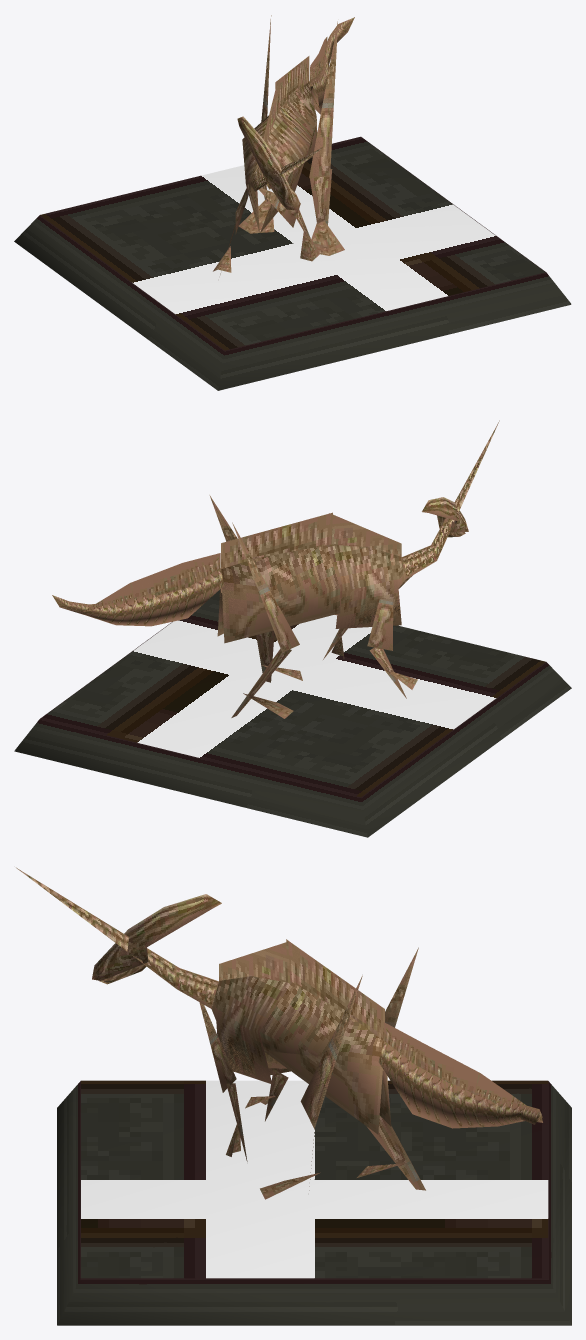
Rendered from int_din_para_m.dae.
The picture shows the model from 3 angles, top to bottom: view 1: azimuth 30°, elevation 25°; view 2: azimuth 150°, elevation 25°; view 3: azimuth 270°, elevation 25°; orthographic projection. The views are drawn at different scales.
Parts seen in each view (by area): view 1: int_din_para_m; view 2: int_din_para_m; view 3: int_din_para_m.
Part boxes in pixels (x1,y1,x2,y2): int_din_para_m: [14, 15, 571, 390]; int_din_para_m: [14, 420, 571, 837]; int_din_para_m: [16, 867, 571, 1325].
Bounding box in the file's own units: 26.68 × 17.04 × 28.88.
4 materials, 4 textured.
